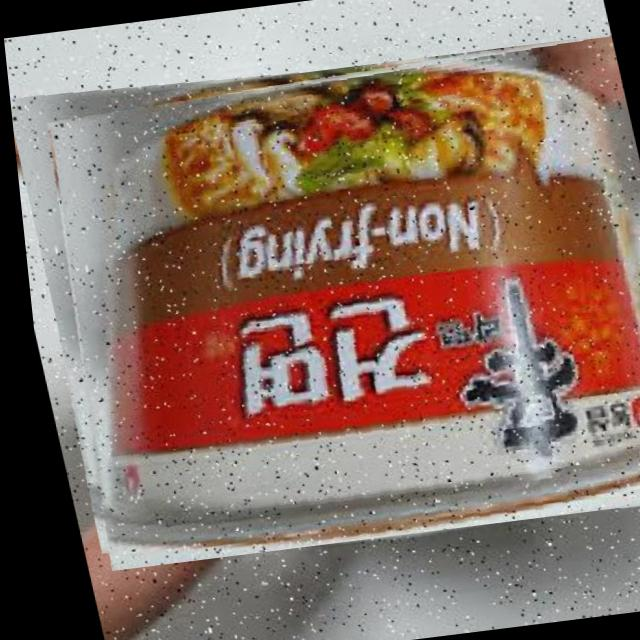Miscellaneous: (2, 28, 640, 570)
